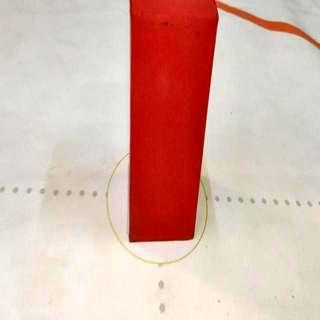redbox: (127, 1, 219, 242)
